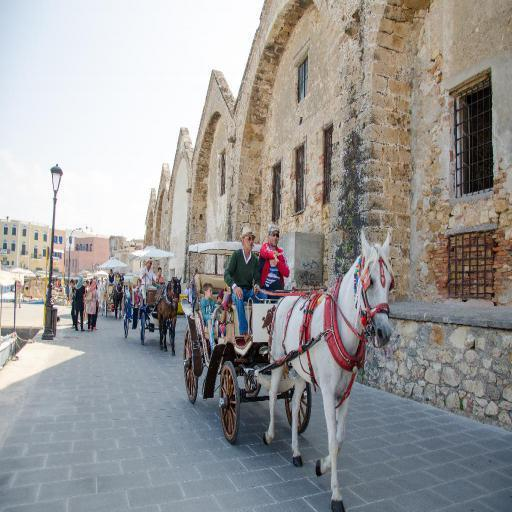horse: (260, 228, 396, 512), (156, 271, 184, 359), (110, 274, 123, 322)
